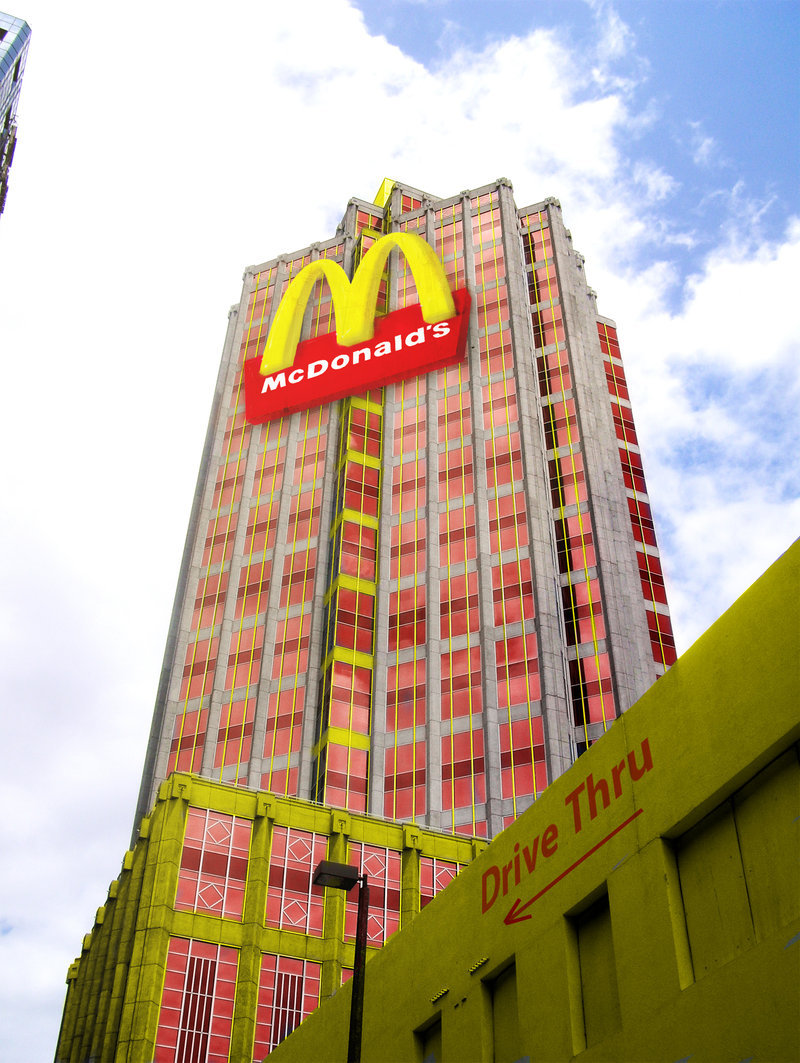mcdonalds: (255, 224, 457, 374)
